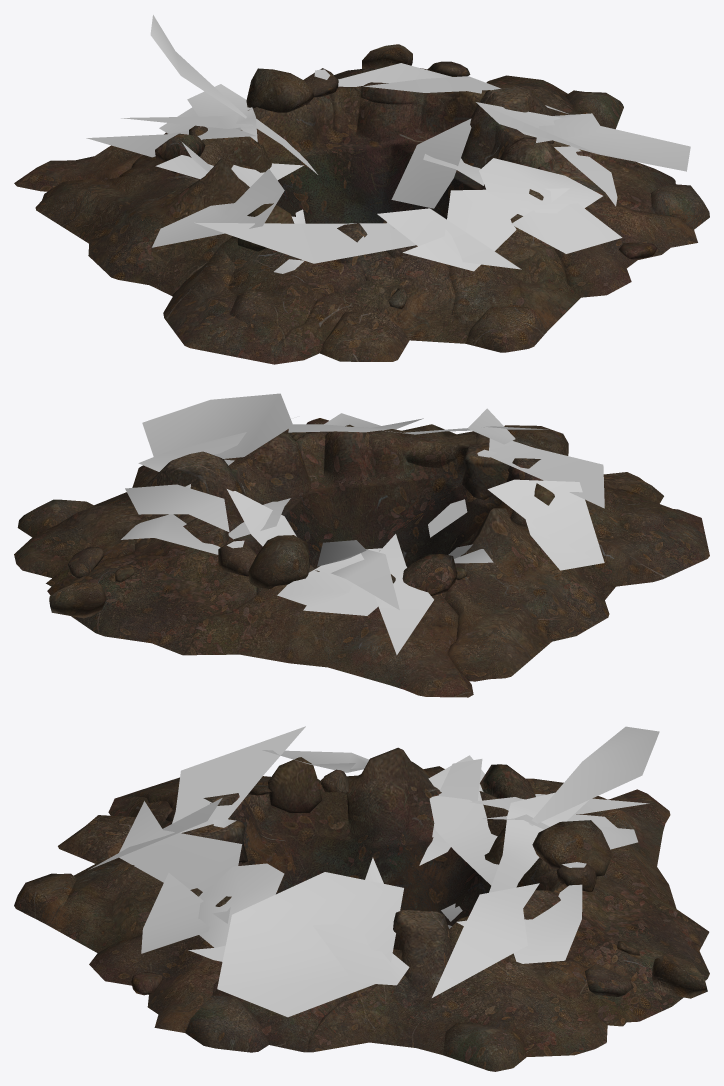
The model's file is interactive_container_arden_ground_hole_open.fbx.
3 renders of one model, top to bottom at view 1: azimuth 30°, elevation 25°; view 2: azimuth 150°, elevation 25°; view 3: azimuth 270°, elevation 25°, orthographic. The views are drawn at different scales.
Visible parts, largest first — view 1: interactive_container_arden_ground_hole_open; view 2: interactive_container_arden_ground_hole_open; view 3: interactive_container_arden_ground_hole_open.
Boxes of the visible parts, x1,y1,x2,y2 form: interactive_container_arden_ground_hole_open: (14, 15, 709, 364); interactive_container_arden_ground_hole_open: (14, 393, 709, 697); interactive_container_arden_ground_hole_open: (14, 726, 709, 1071).
Bounding box in the file's own units: 315 × 95.96 × 311.
